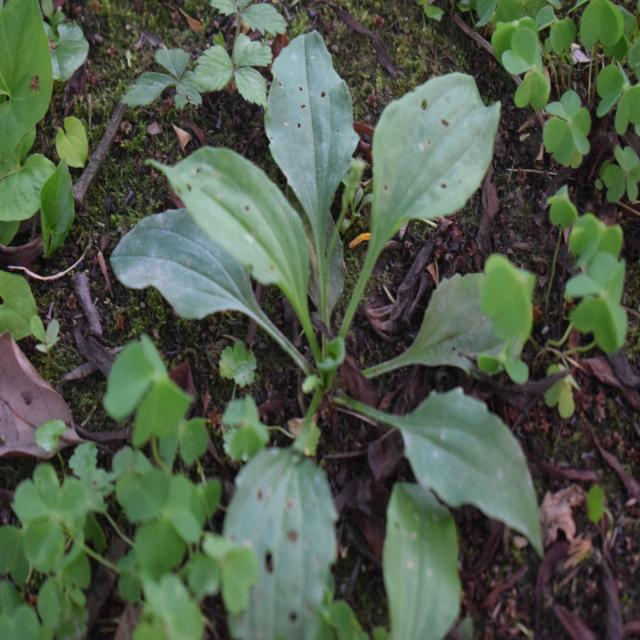plantain: (162, 43, 539, 551)
